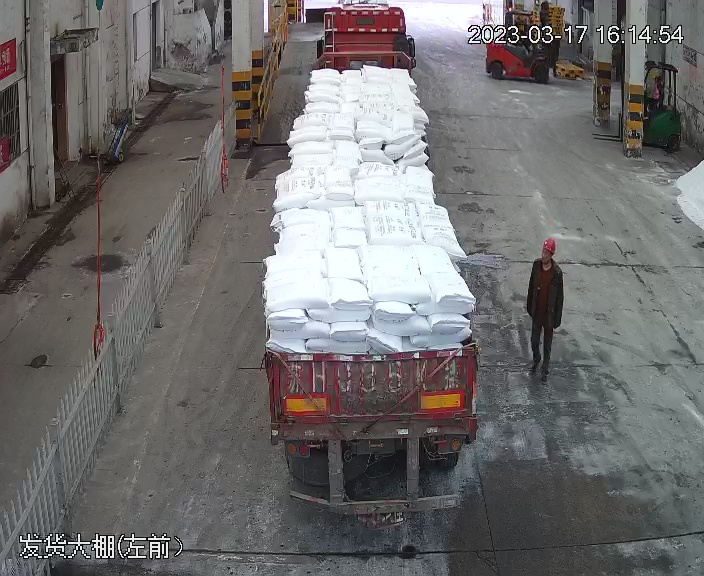head: (530, 237, 562, 279)
helmet: (542, 237, 557, 254)
people: (523, 236, 566, 384)
truck: (252, 9, 486, 480)
